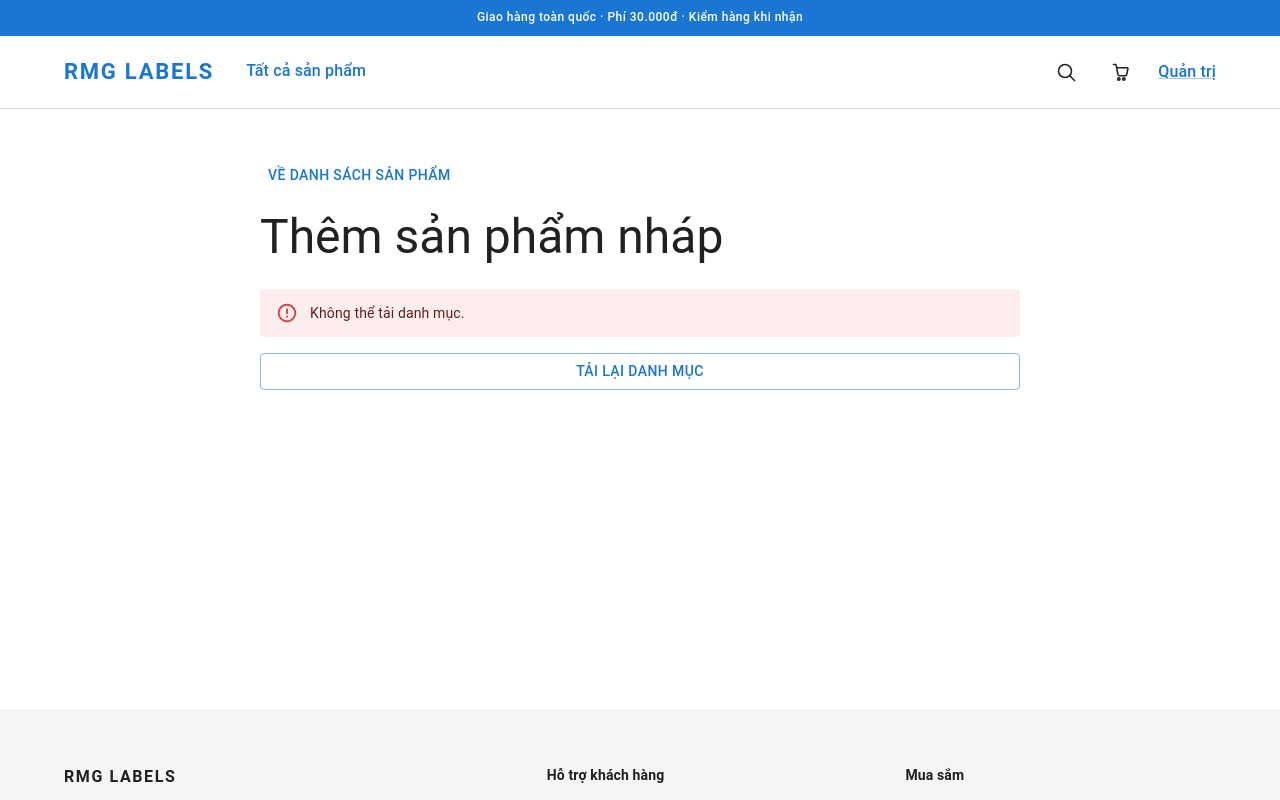
Test case: create a draft product with one variant › offers retry if loading categories fails
The image size is (1280, 800).
Expected: the text "Không thể tải danh mục." is shown, [310, 305, 465, 321]
Click the button "Tải lại danh mục": (640, 372) [260, 353, 1020, 390]
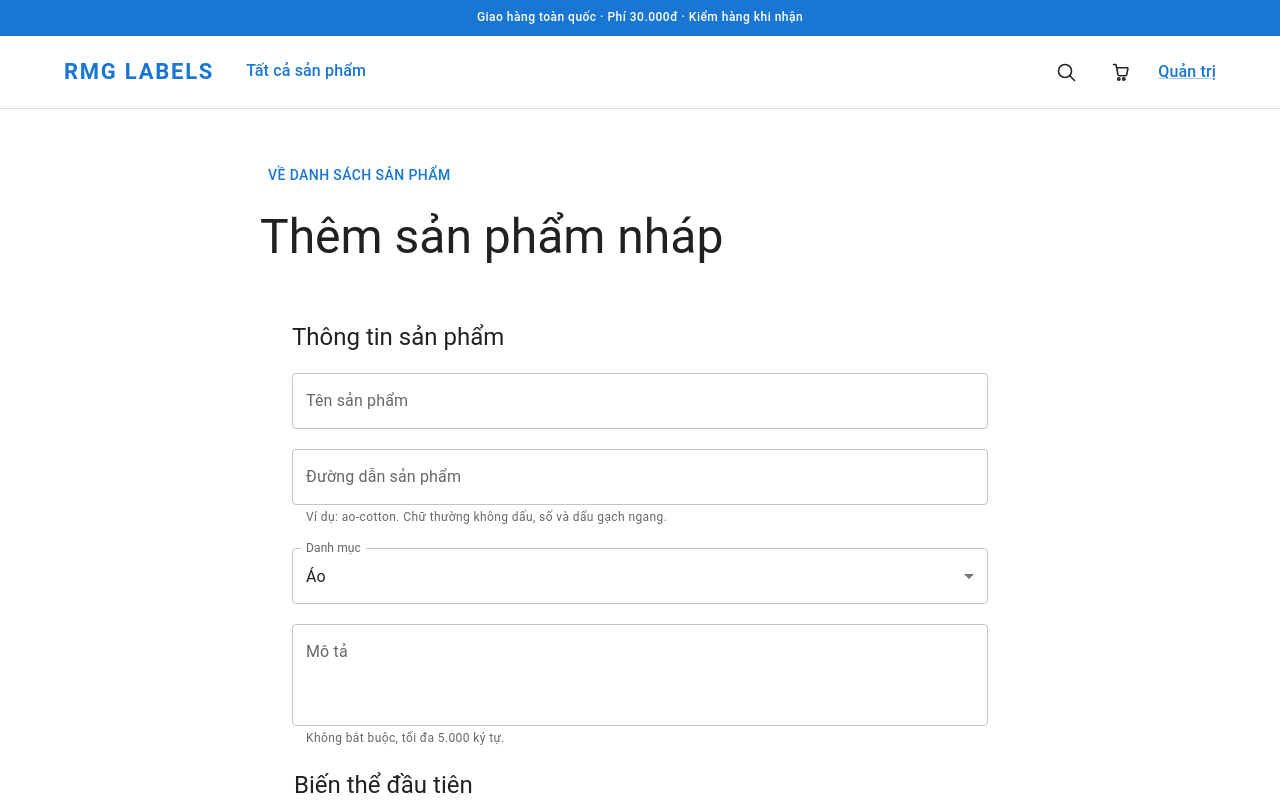
Now the field labelled "Tên sản phẩm" is shown, box [292, 373, 988, 429]
